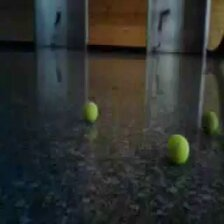tennis: (167, 135, 190, 163), (201, 112, 218, 135), (84, 102, 99, 123)
